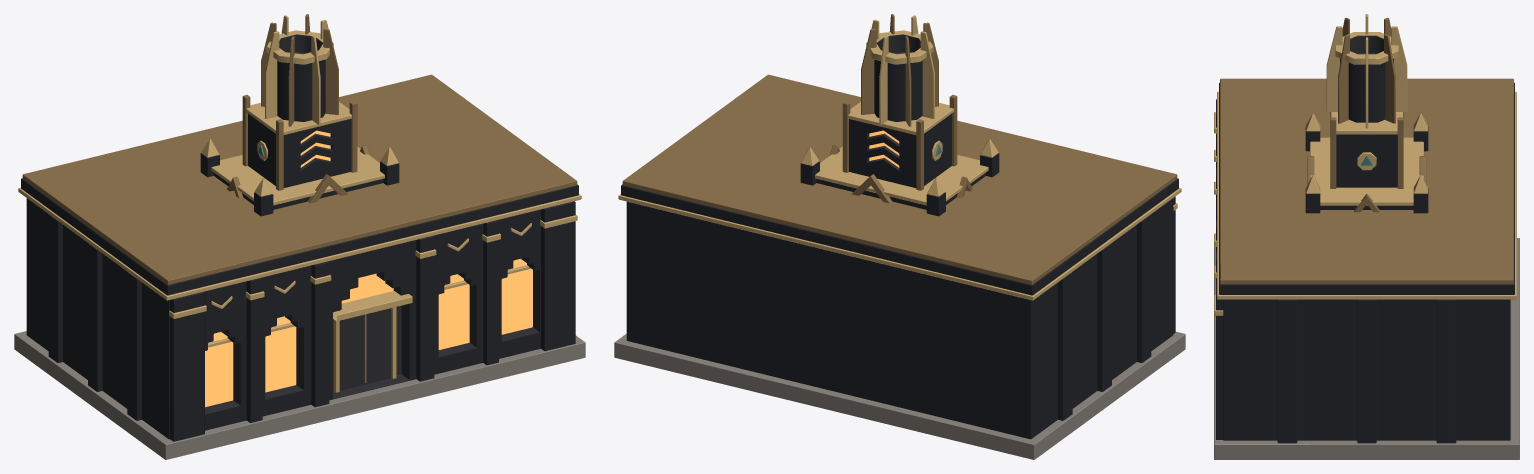
File: torre-kit.glb
3 renders of one model, left to right at view 1: azimuth 30°, elevation 25°; view 2: azimuth 150°, elevation 25°; view 3: azimuth 270°, elevation 25°, orthographic.
Parts seen in each view (by area): view 1: base, crown; view 2: base, crown; view 3: base, crown.
Part boxes in pixels (box(x1,y1,x2,y2)): base: box(14, 74, 585, 459); crown: box(200, 14, 399, 216); base: box(614, 74, 1185, 459); crown: box(800, 14, 999, 216); base: box(1214, 78, 1519, 459); crown: box(1305, 14, 1428, 213).
Size of the model in its own units: 8 by 5.95 by 5.
